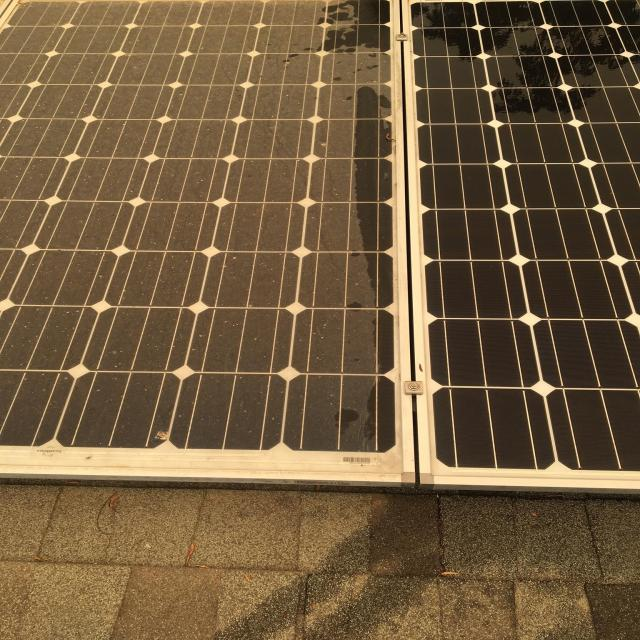dust-solar-panel: (0, 0, 407, 485)
